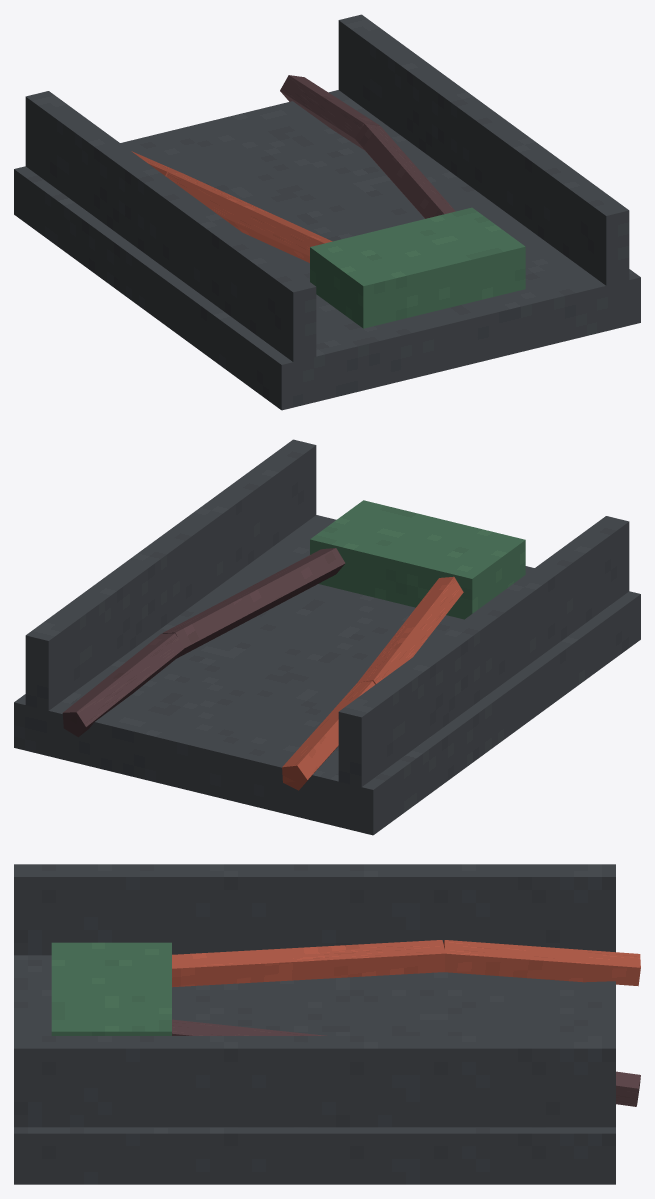
File: it_handheld_battery_mount.glb
3 renders of one model, top to bottom at view 1: azimuth 30°, elevation 25°; view 2: azimuth 150°, elevation 25°; view 3: azimuth 270°, elevation 25°, orthographic. The views are drawn at different scales.
Visible parts, largest first — view 1: block_open mounting plate, block_guide rail (×2), block_controller, block_wire harness 0 (×2), block_wire harness 1; view 2: block_open mounting plate, block_guide rail (×2), block_controller, block_wire harness 0 (×2), block_wire harness 1 (×2); view 3: block_guide rail (×2), block_open mounting plate, block_controller, block_wire harness 0 (×2), block_wire harness 1 (×2).
Boxes of the visible parts, x1,y1,x2,y2 form: block_open mounting plate: (14, 90, 640, 410); block_guide rail (×2): (25, 14, 629, 362); block_controller: (310, 207, 525, 328); block_wire harness 0 (×2): (166, 123, 455, 262); block_wire harness 1: (280, 75, 379, 150); block_open mounting plate: (14, 515, 640, 835); block_guide rail (×2): (25, 439, 629, 786); block_controller: (310, 500, 525, 619); block_wire harness 0 (×2): (162, 548, 463, 684); block_wire harness 1 (×2): (62, 633, 375, 790); block_guide rail (×2): (14, 864, 615, 1127); block_open mounting plate: (14, 955, 615, 1184); block_controller: (51, 942, 171, 1035); block_wire harness 0 (×2): (172, 940, 445, 1035); block_wire harness 1 (×2): (443, 940, 640, 1106).
Size of the model in its own units: 0.1285 by 0.0394 by 0.1727.
1 material, 1 textured.
